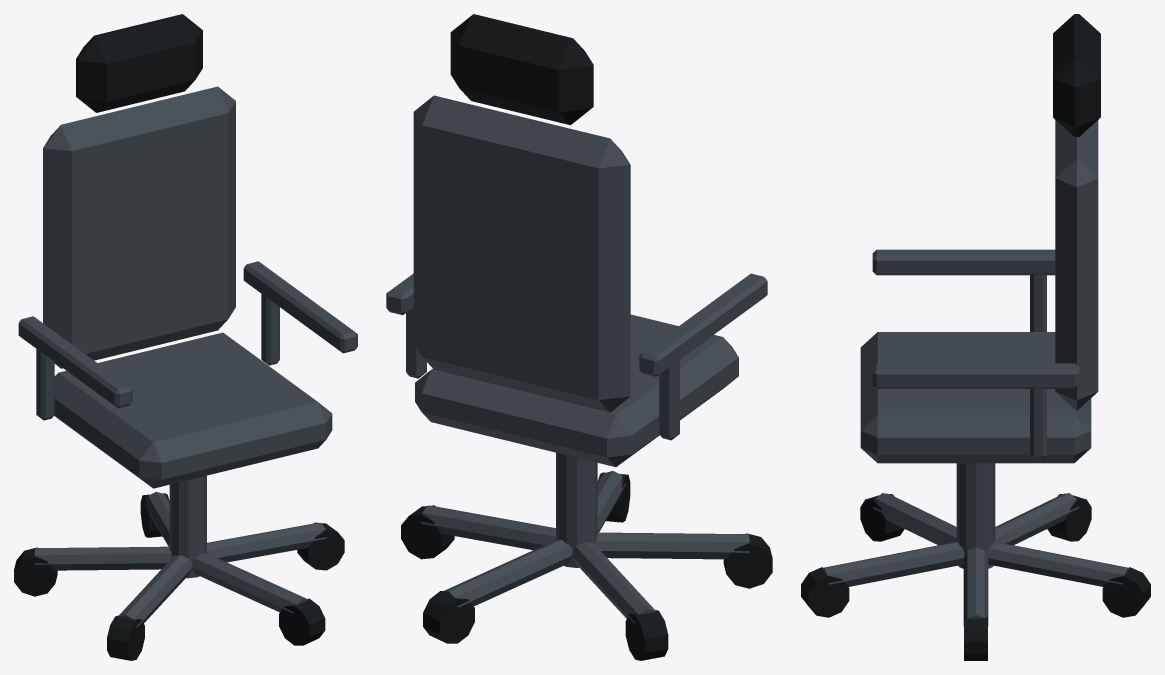
File: ExecutiveChair.fbx
3 renders of one model, left to right at view 1: azimuth 30°, elevation 25°; view 2: azimuth 150°, elevation 25°; view 3: azimuth 270°, elevation 25°, orthographic. The views are drawn at different scales.
Visible parts, largest first — view 1: ExecutiveChair; view 2: ExecutiveChair; view 3: ExecutiveChair.
Boxes of the visible parts, x1,y1,x2,y2 form: ExecutiveChair: [14, 14, 357, 660]; ExecutiveChair: [386, 14, 772, 660]; ExecutiveChair: [801, 14, 1150, 660].
Bounding box in the file's own units: 69.25 × 128 × 72.82.
Materials: 1 (1 with a texture image).
